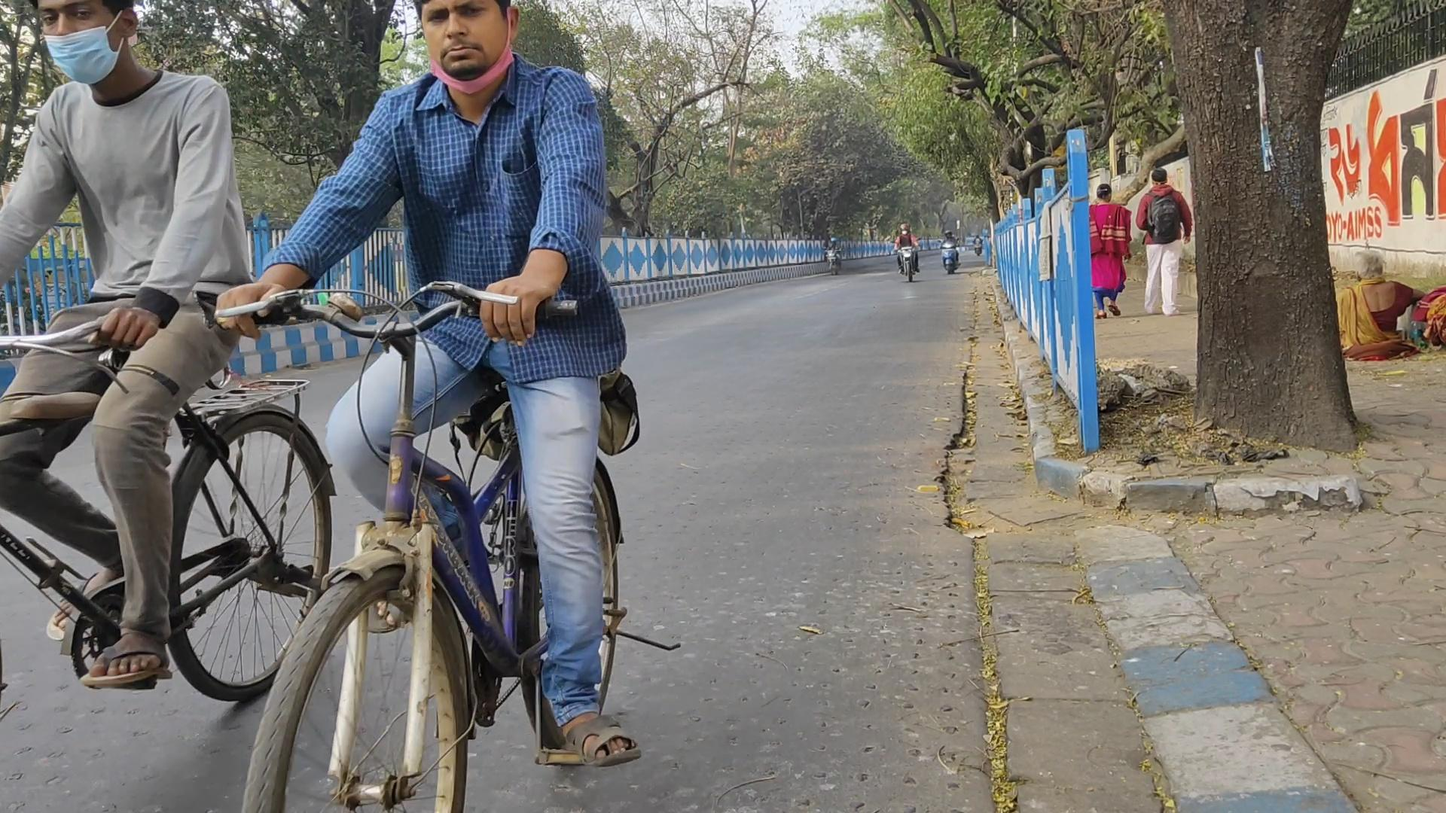bike: (199, 2, 683, 813), (2, 2, 338, 813), (890, 223, 922, 283), (938, 230, 962, 275), (823, 236, 843, 277)
